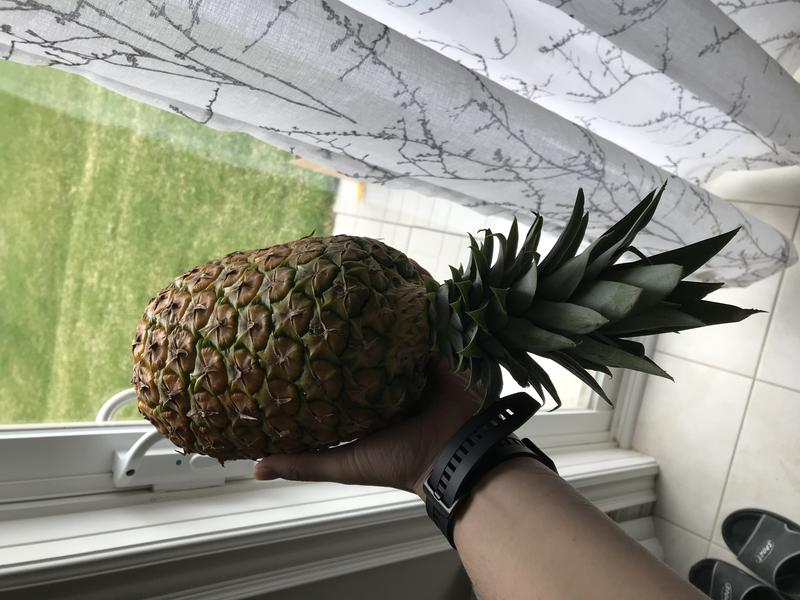pineapple: (122, 181, 766, 469)
